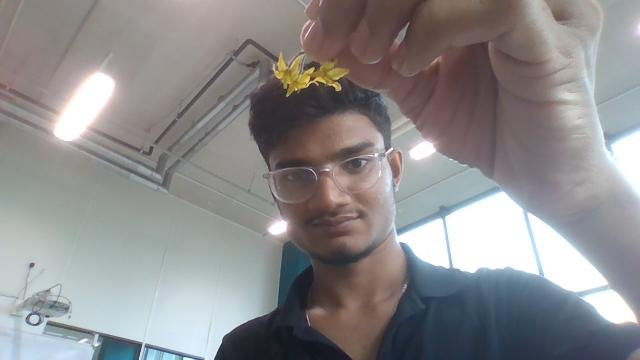Anthesis: (272, 51, 311, 96), (310, 60, 349, 91), (304, 76, 329, 89)
